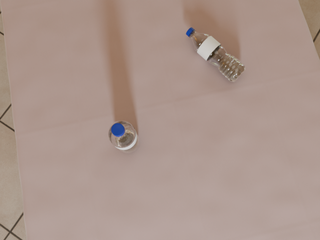bottle: (186, 28, 246, 82), (108, 121, 140, 153)
